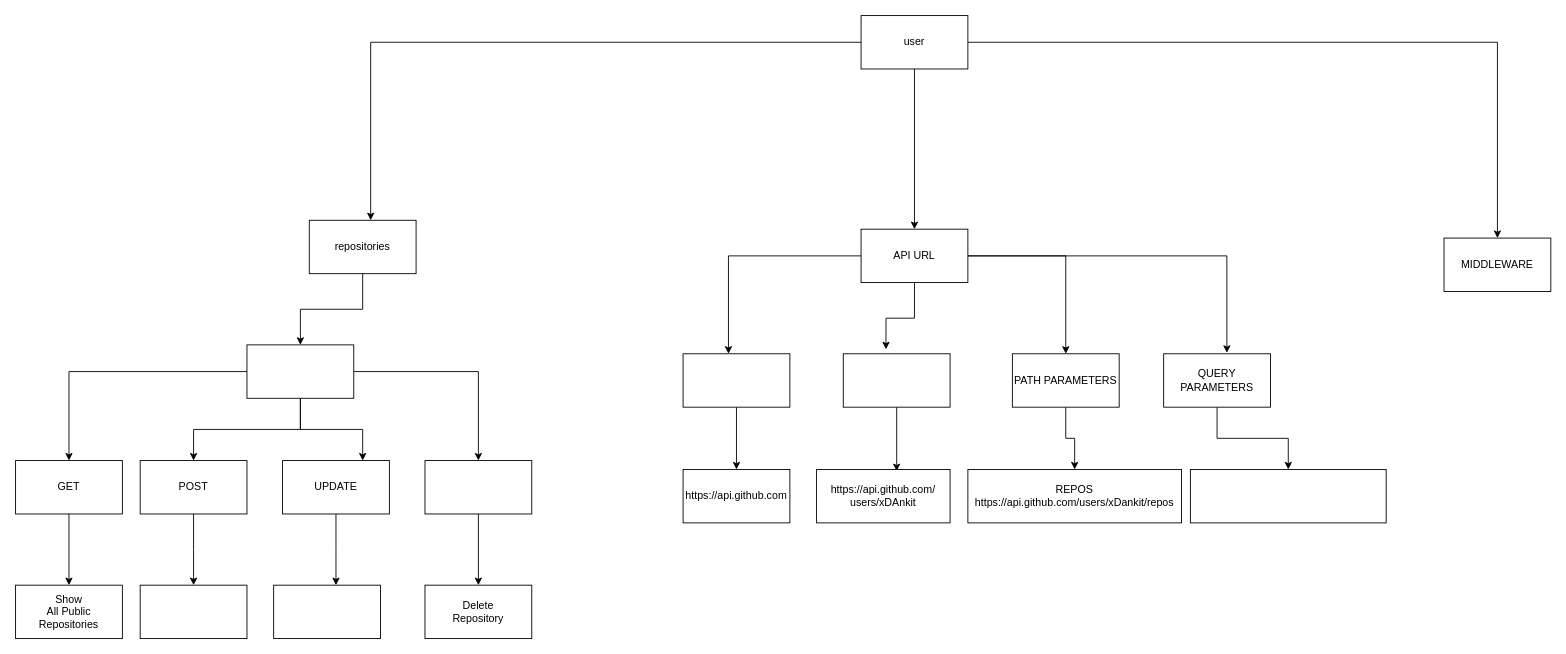
Some shapes in this 1566 by 654 pixel diagram are drawn without their labels. Each missing label, with the centre of its shape:
"api endpoint" goes at [300,371].
"Base URL" goes at [736,380].
"Create New Repository" goes at [193,611].
"DELETE" goes at [478,487].
"ENDPOINT" goes at [896,380].
"https://api/github.com/users/xDAnkit?type=public" goes at [1287,496].
"Update Repository" goes at [326,611].
